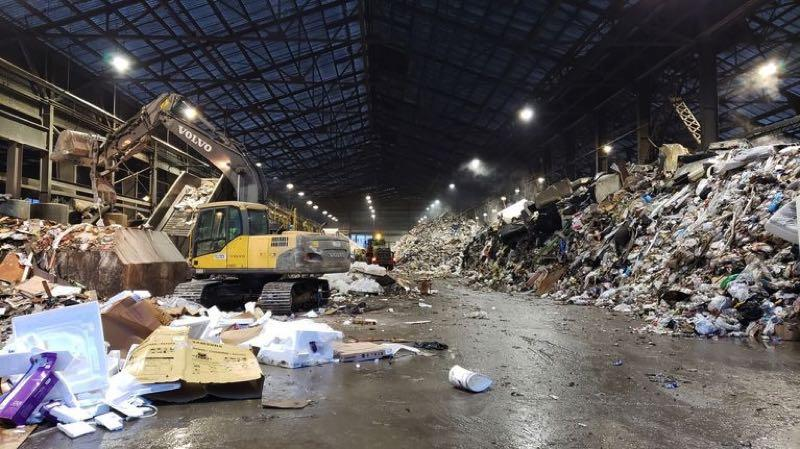garbage: (398, 131, 800, 327), (0, 216, 342, 419)
